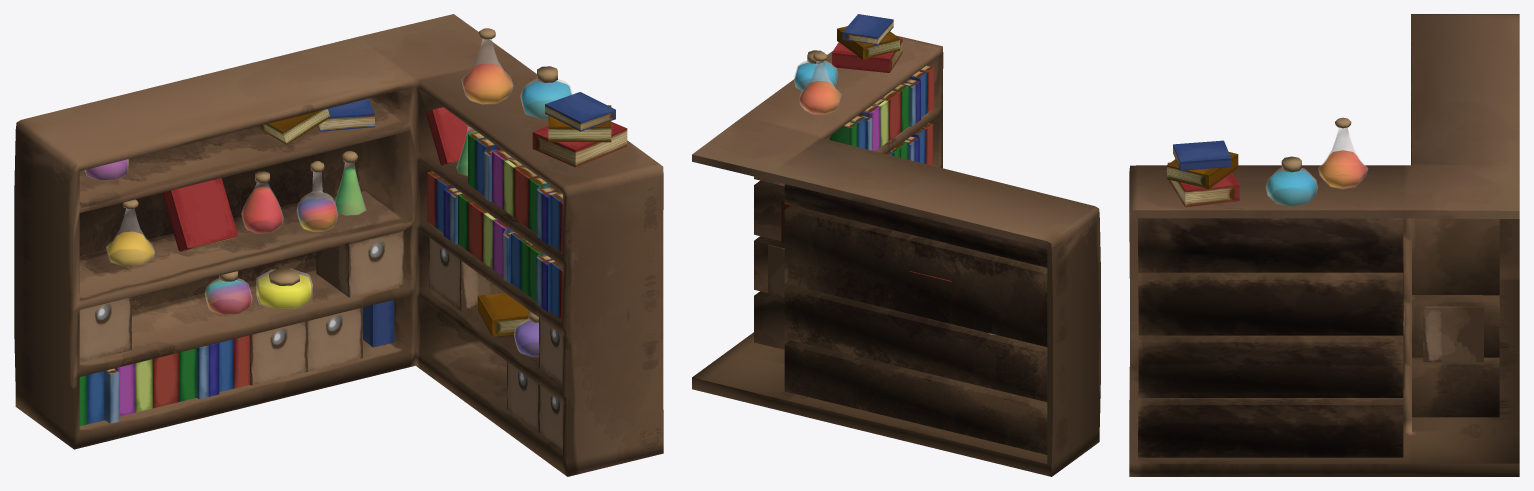
File: Pumpkinboy_prop_bookshelf.fbx
3 renders of one model, left to right at view 1: azimuth 30°, elevation 25°; view 2: azimuth 150°, elevation 25°; view 3: azimuth 270°, elevation 25°, orthographic. The views are drawn at different scales.
Parts seen in each view (by area): view 1: bookshelf; view 2: bookshelf; view 3: bookshelf.
Part boxes in pixels (x1,y1,x2,y2): bookshelf: (14, 14, 663, 476); bookshelf: (692, 14, 1100, 476); bookshelf: (1129, 14, 1519, 476).
Bounding box in the file's own units: 778 × 598 × 644.
